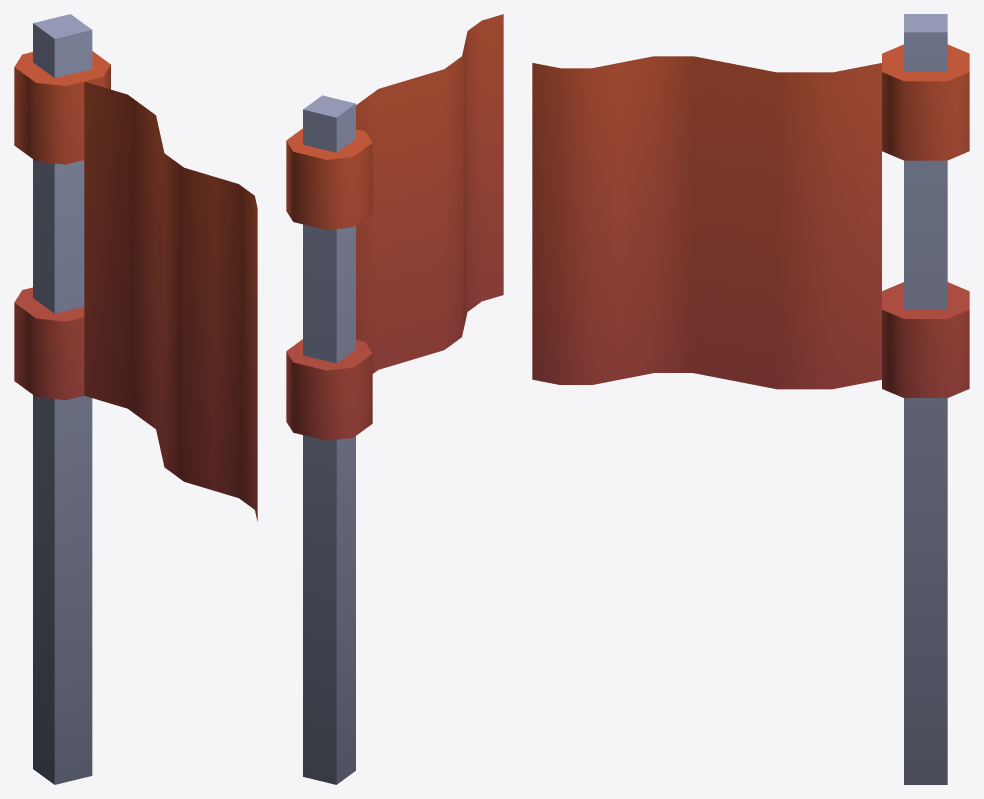
The model's file is pk-flag.glb.
The picture shows the model from 3 angles, left to right: view 1: azimuth 30°, elevation 25°; view 2: azimuth 150°, elevation 25°; view 3: azimuth 270°, elevation 25°; orthographic projection. The views are drawn at different scales.
Visible parts, largest first — view 1: flag; view 2: flag; view 3: flag.
Boxes of the visible parts, x1,y1,x2,y2 form: flag: (14, 14, 257, 784); flag: (286, 14, 503, 784); flag: (532, 14, 969, 784).
Size of the model in its own units: 0.1 by 0.95 by 0.5.
